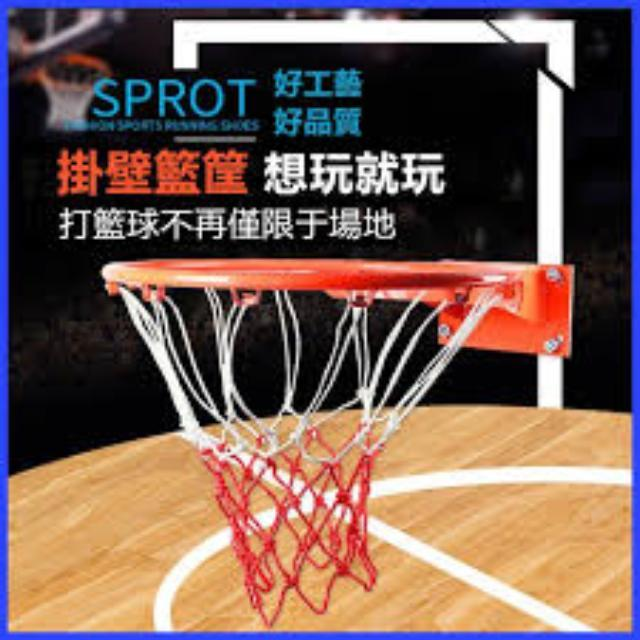rim: (99, 259, 497, 613)
